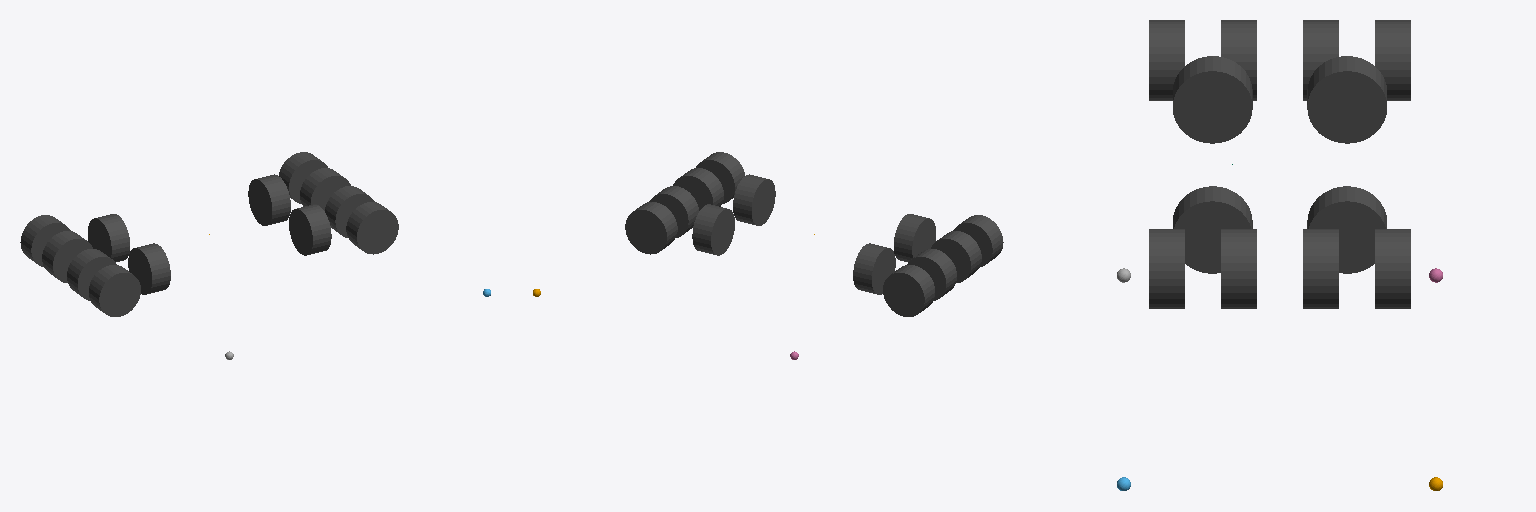
URDF robot description (sysu219):
<?xml version="1.0"?>
<!-- Generated by scripts/tools/sync_sysu219.py from ROS SOURCE xacro. -->
<robot name="sysu219">
  <material name="black">
    <color rgba="0.0 0.0 0.0 1.0" />
  </material>
  <material name="blue">
    <color rgba="0.0 0.0 0.8 1.0" />
  </material>
  <material name="green">
    <color rgba="0.0 0.8 0.0 1.0" />
  </material>
  <material name="deep-grey">
    <color rgba="0.1 0.1 0.1 1.0" />
  </material>
  <material name="grey">
    <color rgba="0.2 0.2 0.2 1.0" />
  </material>
  <material name="light-grey">
    <color rgba="0.35 0.35 0.35 1.0" />
  </material>
  <material name="silver">
    <color rgba="0.9137254901960784 0.9137254901960784 0.8470588235294118 1.0" />
  </material>
  <material name="orange">
    <color rgba="1.0 0.4235294117647059 0.0392156862745098 1.0" />
  </material>
  <material name="brown">
    <color rgba="0.8705882352941177 0.8117647058823529 0.7647058823529411 1.0" />
  </material>
  <material name="red">
    <color rgba="0.8 0.0 0.0 1.0" />
  </material>
  <material name="white">
    <color rgba="1.0 1.0 1.0 1.0" />
  </material>
  <link name="base">
    <visual>
      <origin rpy="0 0 0" xyz="0 0 0" />
      <geometry>
        <box size="0.001 0.001 0.001" />
      </geometry>
    </visual>
  </link>
  <joint name="floating_base" type="fixed">
    <origin rpy="0 0 0" xyz="0 0 0" />
    <parent link="base" />
    <child link="trunk" />
  </joint>
  <link name="trunk">
    <visual>
      <origin rpy="3.141592653589793 0 0" xyz="0 0 0" />
      <geometry>
        <mesh filename="../meshes/trunk.dae" scale="0.001 0.001 0.001" />
      </geometry>
      <material name="light-grey" />
    </visual>
    <collision>
      <origin rpy="0 0 0" xyz="0 0 0" />
      <geometry>
        <box size="0.8575 0.32 0.23" />
      </geometry>
    </collision>
    <inertial>
      <origin rpy="0 0 0" xyz="-0.008263775204270183 0.00013850204932197672 -0.0038367281726919174" />
      <mass value="23.262327999999997" />
      <inertia ixx="0.15585326648775927" ixy="0.00017527213401027876" ixz="-0.0001648098028850851" iyy="0.3450421815507041" iyz="-9.347367638805436e-06" izz="0.3993994523641999" />
    </inertial>
  </link>
  <joint name="imu_joint" type="fixed">
    <parent link="trunk" />
    <child link="imu_link" />
    <origin rpy="0 0 0" xyz="-0.01592 -0.06659 -0.00617" />
  </joint>
  <link name="imu_link">
    <inertial>
      <mass value="0.001" />
      <origin rpy="0 0 0" xyz="0 0 0" />
      <inertia ixx="0.0001" ixy="0" ixz="0" iyy="0.0001" iyz="0" izz="0.0001" />
    </inertial>
    <visual>
      <origin rpy="0 0 0" xyz="0 0 0" />
      <geometry>
        <box size="0.001 0.001 0.001" />
      </geometry>
    </visual>
    <collision>
      <origin rpy="0 0 0" xyz="0 0 0" />
      <geometry>
        <box size=".001 .001 .001" />
      </geometry>
    </collision>
  </link>
  <joint name="FR_hip_joint" type="revolute">
    <origin rpy="0 0 0" xyz="0.34525 -0.094 0" />
    <parent link="trunk" />
    <child link="FR_hip" />
    <axis xyz="1 0 0" />
    <dynamics damping="9.833942875227822e-10" friction="1.0170625680080705" />
    <identified_dynamics Ja="0.0" />
    <limit effort="100.0" lower="-0.863" upper="0.863" velocity="30.1" />
  </joint>
  <joint name="FR_hip_rotor_joint" type="fixed">
    <origin rpy="0 0 0" xyz="0.21525 -0.094 0" />
    <parent link="trunk" />
    <child link="FR_hip_rotor" />
  </joint>
  <link name="FR_hip">
    <visual>
      <origin rpy="3.141592653589793 0 0" xyz="0 0 0" />
      <geometry>
        <mesh filename="../meshes/hip.dae" scale="0.001 0.001 0.001" />
      </geometry>
      <material name="deep-grey" />
    </visual>
    <collision>
      <origin rpy="1.5707963267948966 0 0" xyz="0 -0.042 0" />
      <geometry>
        <cylinder length="0.2075" radius="0.0645" />
      </geometry>
    </collision>
    <inertial>
      <origin rpy="0 0 0" xyz="-0.00696261448447296 0.012046148468547043 -0.026980860633847754" />
      <mass value="1.7924602521424395" />
      <inertia ixx="0.0009483818482052668" ixy="-2.4797388489340645e-05" ixz="0.0002973124753954913" iyy="0.002206880063634297" iyz="-0.0004026831142534481" izz="0.0022395227304014016" />
    </inertial>
  </link>
  <link name="FR_hip_rotor">
    <visual>
      <origin rpy="0 1.5707963267948966 0" xyz="0 0 0" />
      <geometry>
        <cylinder length="0.050" radius="0.056" />
      </geometry>
      <material name="light-grey" />
    </visual>
  </link>
  <joint name="FR_thigh_joint" type="revolute">
    <origin rpy="0 0 0" xyz="0 -0.1243 0" />
    <parent link="FR_hip" />
    <child link="FR_thigh" />
    <axis xyz="0 1 0" />
    <dynamics damping="0.09591841174893605" friction="1.2980958388469037" />
    <identified_dynamics Ja="0.0" />
    <limit effort="100.0" lower="-2.1" upper="4.501" velocity="30.1" />
  </joint>
  <joint name="FR_thigh_rotor_joint" type="fixed">
    <origin rpy="0 0 0" xyz="0.0 0.03675 0" />
    <parent link="FR_hip" />
    <child link="FR_thigh_rotor" />
  </joint>
  <link name="FR_thigh">
    <visual>
      <origin rpy="0 0 0" xyz="0 0 0" />
      <geometry>
        <mesh filename="../meshes/thigh_mirror.dae" scale="0.001 0.001 0.001" />
      </geometry>
      <material name="grey" />
    </visual>
    <collision>
      <origin rpy="0 1.5707963267948966 0" xyz="0 0 -0.14175" />
      <geometry>
        <box size="0.2835 0.0245 0.034" />
      </geometry>
    </collision>
    <inertial>
      <origin rpy="0 0 0" xyz="-0.005325015173474939 0.005586610327414134 0.007249839087963947" />
      <mass value="1.7879790627273628" />
      <inertia ixx="0.04073612670322317" ixy="-0.0034975829479520016" ixz="0.007126920925560381" iyy="0.036818243851499684" iyz="0.00045967932687648297" izz="0.010400779450165947" />
    </inertial>
  </link>
  <link name="FR_thigh_rotor">
    <visual>
      <origin rpy="1.5707963267948966 0 0" xyz="0 0 0" />
      <geometry>
        <cylinder length="0.05" radius="0.056" />
      </geometry>
      <material name="light-grey" />
    </visual>
  </link>
  <joint name="FR_calf_joint" type="revolute">
    <origin rpy="0 0 0" xyz="0 0 -0.2835" />
    <parent link="FR_thigh" />
    <child link="FR_calf" />
    <axis xyz="0 1 0" />
    <dynamics damping="1.6499038712067307e-09" friction="1.0794450668988391" />
    <identified_dynamics Ja="0.055704868111569605" />
    <limit effort="100.0" lower="-2.818" upper="-0.888" velocity="20.06" />
  </joint>
  <joint name="FR_calf_rotor_joint" type="fixed">
    <origin rpy="0 0 0" xyz="0.0 0.06055 0" />
    <parent link="FR_thigh" />
    <child link="FR_calf_rotor" />
  </joint>
  <link name="FR_calf">
    <visual>
      <origin rpy="0 0 0" xyz="0 0 0" />
      <geometry>
        <mesh filename="../meshes/calf.dae" scale="0.001 0.001 0.001" />
      </geometry>
      <material name="light-grey" />
    </visual>
    <collision>
      <origin rpy="0 1.5707963267948966 0" xyz="0 0 -0.14175" />
      <geometry>
        <box size="0.2835 0.016 0.016" />
      </geometry>
    </collision>
    <inertial>
      <origin rpy="0 0 0" xyz="0.004891577704718271 -0.003991314072789767 -0.06893179294071515" />
      <mass value="0.9242110826201402" />
      <inertia ixx="0.018042043944794667" ixy="-0.0004037739589797209" ixz="0.0009094584478298722" iyy="0.01614807511713299" iyz="0.0057717411137930144" izz="0.003446060257266225" />
    </inertial>
  </link>
  <link name="FR_calf_rotor">
    <visual>
      <origin rpy="1.5707963267948966 0 0" xyz="0 0 0" />
      <geometry>
        <cylinder length="0.05" radius="0.056" />
      </geometry>
      <material name="light-grey" />
    </visual>
  </link>
  <joint name="FR_foot_fixed" type="fixed" dont_collapse="true">
    <origin rpy="0 0 0" xyz="0 0 -0.2835" />
    <parent link="FR_calf" />
    <child link="FR_foot" />
  </joint>
  <link name="FR_foot">
    <visual>
      <origin rpy="0 0 0" xyz="0 0 0" />
      <geometry>
        <sphere radius="0.01" />
      </geometry>
    </visual>
    <collision>
      <origin rpy="0 0 0" xyz="0 0 0" />
      <geometry>
        <sphere radius="0.02" />
      </geometry>
    </collision>
  </link>
  <joint name="FL_hip_joint" type="revolute">
    <origin rpy="0 0 0" xyz="0.34525 0.094 0" />
    <parent link="trunk" />
    <child link="FL_hip" />
    <axis xyz="1 0 0" />
    <dynamics damping="9.833942875227822e-10" friction="1.0170625680080705" />
    <identified_dynamics Ja="0.0" />
    <limit effort="100.0" lower="-0.863" upper="0.863" velocity="30.1" />
  </joint>
  <joint name="FL_hip_rotor_joint" type="fixed">
    <origin rpy="0 0 0" xyz="0.21525 0.094 0" />
    <parent link="trunk" />
    <child link="FL_hip_rotor" />
  </joint>
  <link name="FL_hip">
    <visual>
      <origin rpy="0 0 0" xyz="0 0 0" />
      <geometry>
        <mesh filename="../meshes/hip.dae" scale="0.001 0.001 0.001" />
      </geometry>
      <material name="deep-grey" />
    </visual>
    <collision>
      <origin rpy="1.5707963267948966 0 0" xyz="0 0.042 0" />
      <geometry>
        <cylinder length="0.2075" radius="0.0645" />
      </geometry>
    </collision>
    <inertial>
      <origin rpy="0 0 0" xyz="-0.00696261448447296 -0.012046148468547043 -0.026980860633847754" />
      <mass value="1.7924602521424395" />
      <inertia ixx="0.0009483818482052668" ixy="2.4797388489340645e-05" ixz="0.0002973124753954913" iyy="0.002206880063634297" iyz="0.0004026831142534481" izz="0.0022395227304014016" />
    </inertial>
  </link>
  <link name="FL_hip_rotor">
    <visual>
      <origin rpy="0 1.5707963267948966 0" xyz="0 0 0" />
      <geometry>
        <cylinder length="0.050" radius="0.056" />
      </geometry>
      <material name="light-grey" />
    </visual>
  </link>
  <joint name="FL_thigh_joint" type="revolute">
    <origin rpy="0 0 0" xyz="0 0.1243 0" />
    <parent link="FL_hip" />
    <child link="FL_thigh" />
    <axis xyz="0 1 0" />
    <dynamics damping="0.09591841174893605" friction="1.2980958388469037" />
    <identified_dynamics Ja="0.0" />
    <limit effort="100.0" lower="-2.1" upper="4.501" velocity="30.1" />
  </joint>
  <joint name="FL_thigh_rotor_joint" type="fixed">
    <origin rpy="0 0 0" xyz="0.0 -0.03675 0" />
    <parent link="FL_hip" />
    <child link="FL_thigh_rotor" />
  </joint>
  <link name="FL_thigh">
    <visual>
      <origin rpy="0 0 0" xyz="0 0 0" />
      <geometry>
        <mesh filename="../meshes/thigh.dae" scale="0.001 0.001 0.001" />
      </geometry>
      <material name="grey" />
    </visual>
    <collision>
      <origin rpy="0 1.5707963267948966 0" xyz="0 0 -0.14175" />
      <geometry>
        <box size="0.2835 0.0245 0.034" />
      </geometry>
    </collision>
    <inertial>
      <origin rpy="0 0 0" xyz="-0.005325015173474939 -0.005586610327414134 0.007249839087963947" />
      <mass value="1.7879790627273628" />
      <inertia ixx="0.04073612670322317" ixy="0.0034975829479520016" ixz="0.007126920925560381" iyy="0.036818243851499684" iyz="-0.00045967932687648297" izz="0.010400779450165947" />
    </inertial>
  </link>
  <link name="FL_thigh_rotor">
    <visual>
      <origin rpy="1.5707963267948966 0 0" xyz="0 0 0" />
      <geometry>
        <cylinder length="0.05" radius="0.056" />
      </geometry>
      <material name="light-grey" />
    </visual>
  </link>
  <joint name="FL_calf_joint" type="revolute">
    <origin rpy="0 0 0" xyz="0 0 -0.2835" />
    <parent link="FL_thigh" />
    <child link="FL_calf" />
    <axis xyz="0 1 0" />
    <dynamics damping="1.6499038712067307e-09" friction="1.0794450668988391" />
    <identified_dynamics Ja="0.055704868111569605" />
    <limit effort="100.0" lower="-2.818" upper="-0.888" velocity="20.06" />
  </joint>
  <joint name="FL_calf_rotor_joint" type="fixed">
    <origin rpy="0 0 0" xyz="0.0 -0.06055 0" />
    <parent link="FL_thigh" />
    <child link="FL_calf_rotor" />
  </joint>
  <link name="FL_calf">
    <visual>
      <origin rpy="0 0 0" xyz="0 0 0" />
      <geometry>
        <mesh filename="../meshes/calf.dae" scale="0.001 0.001 0.001" />
      </geometry>
      <material name="light-grey" />
    </visual>
    <collision>
      <origin rpy="0 1.5707963267948966 0" xyz="0 0 -0.14175" />
      <geometry>
        <box size="0.2835 0.016 0.016" />
      </geometry>
    </collision>
    <inertial>
      <origin rpy="0 0 0" xyz="0.004891577704718271 0.003991314072789767 -0.06893179294071515" />
      <mass value="0.9242110826201402" />
      <inertia ixx="0.018042043944794667" ixy="0.0004037739589797209" ixz="0.0009094584478298722" iyy="0.01614807511713299" iyz="-0.0057717411137930144" izz="0.003446060257266225" />
    </inertial>
  </link>
  <link name="FL_calf_rotor">
    <visual>
      <origin rpy="1.5707963267948966 0 0" xyz="0 0 0" />
      <geometry>
        <cylinder length="0.05" radius="0.056" />
      </geometry>
      <material name="light-grey" />
    </visual>
  </link>
  <joint name="FL_foot_fixed" type="fixed" dont_collapse="true">
    <origin rpy="0 0 0" xyz="0 0 -0.2835" />
    <parent link="FL_calf" />
    <child link="FL_foot" />
  </joint>
  <link name="FL_foot">
    <visual>
      <origin rpy="0 0 0" xyz="0 0 0" />
      <geometry>
        <sphere radius="0.01" />
      </geometry>
    </visual>
    <collision>
      <origin rpy="0 0 0" xyz="0 0 0" />
      <geometry>
        <sphere radius="0.02" />
      </geometry>
    </collision>
  </link>
  <joint name="RR_hip_joint" type="revolute">
    <origin rpy="0 0 0" xyz="-0.34525 -0.094 0" />
    <parent link="trunk" />
    <child link="RR_hip" />
    <axis xyz="1 0 0" />
    <dynamics damping="9.833942875227822e-10" friction="1.0170625680080705" />
    <identified_dynamics Ja="0.0" />
    <limit effort="100.0" lower="-0.863" upper="0.863" velocity="30.1" />
  </joint>
  <joint name="RR_hip_rotor_joint" type="fixed">
    <origin rpy="0 0 0" xyz="-0.21525 -0.094 0" />
    <parent link="trunk" />
    <child link="RR_hip_rotor" />
  </joint>
  <link name="RR_hip">
    <visual>
      <origin rpy="3.141592653589793 3.141592653589793 0" xyz="0 0 0" />
      <geometry>
        <mesh filename="../meshes/hip.dae" scale="0.001 0.001 0.001" />
      </geometry>
      <material name="deep-grey" />
    </visual>
    <collision>
      <origin rpy="1.5707963267948966 0 0" xyz="0 -0.042 0" />
      <geometry>
        <cylinder length="0.2075" radius="0.0645" />
      </geometry>
    </collision>
    <inertial>
      <origin rpy="0 0 0" xyz="0.00696261448447296 0.012046148468547043 -0.026980860633847754" />
      <mass value="1.7924602521424395" />
      <inertia ixx="0.0009483818482052668" ixy="2.4797388489340645e-05" ixz="-0.0002973124753954913" iyy="0.002206880063634297" iyz="-0.0004026831142534481" izz="0.0022395227304014016" />
    </inertial>
  </link>
  <link name="RR_hip_rotor">
    <visual>
      <origin rpy="0 1.5707963267948966 0" xyz="0 0 0" />
      <geometry>
        <cylinder length="0.050" radius="0.056" />
      </geometry>
      <material name="light-grey" />
    </visual>
  </link>
  <joint name="RR_thigh_joint" type="revolute">
    <origin rpy="0 0 0" xyz="0 -0.1243 0" />
    <parent link="RR_hip" />
    <child link="RR_thigh" />
    <axis xyz="0 1 0" />
    <dynamics damping="0.09591841174893605" friction="1.2980958388469037" />
    <identified_dynamics Ja="0.0" />
    <limit effort="100.0" lower="-2.1" upper="4.501" velocity="30.1" />
  </joint>
  <joint name="RR_thigh_rotor_joint" type="fixed">
    <origin rpy="0 0 0" xyz="0.0 0.03675 0" />
    <parent link="RR_hip" />
    <child link="RR_thigh_rotor" />
  </joint>
  <link name="RR_thigh">
    <visual>
      <origin rpy="0 0 0" xyz="0 0 0" />
      <geometry>
        <mesh filename="../meshes/thigh_mirror.dae" scale="0.001 0.001 0.001" />
      </geometry>
      <material name="grey" />
    </visual>
    <collision>
      <origin rpy="0 1.5707963267948966 0" xyz="0 0 -0.14175" />
      <geometry>
        <box size="0.2835 0.0245 0.034" />
      </geometry>
    </collision>
    <inertial>
      <origin rpy="0 0 0" xyz="-0.005325015173474939 0.005586610327414134 0.007249839087963947" />
      <mass value="1.7879790627273628" />
      <inertia ixx="0.04073612670322317" ixy="-0.0034975829479520016" ixz="0.007126920925560381" iyy="0.036818243851499684" iyz="0.00045967932687648297" izz="0.010400779450165947" />
    </inertial>
  </link>
  <link name="RR_thigh_rotor">
    <visual>
      <origin rpy="1.5707963267948966 0 0" xyz="0 0 0" />
      <geometry>
        <cylinder length="0.05" radius="0.056" />
      </geometry>
      <material name="light-grey" />
    </visual>
  </link>
  <joint name="RR_calf_joint" type="revolute">
    <origin rpy="0 0 0" xyz="0 0 -0.2835" />
    <parent link="RR_thigh" />
    <child link="RR_calf" />
    <axis xyz="0 1 0" />
    <dynamics damping="1.6499038712067307e-09" friction="1.0794450668988391" />
    <identified_dynamics Ja="0.055704868111569605" />
    <limit effort="100.0" lower="-2.818" upper="-0.888" velocity="20.06" />
  </joint>
  <joint name="RR_calf_rotor_joint" type="fixed">
    <origin rpy="0 0 0" xyz="0.0 0.06055 0" />
    <parent link="RR_thigh" />
    <child link="RR_calf_rotor" />
  </joint>
  <link name="RR_calf">
    <visual>
      <origin rpy="0 0 0" xyz="0 0 0" />
      <geometry>
        <mesh filename="../meshes/calf.dae" scale="0.001 0.001 0.001" />
      </geometry>
      <material name="light-grey" />
    </visual>
    <collision>
      <origin rpy="0 1.5707963267948966 0" xyz="0 0 -0.14175" />
      <geometry>
        <box size="0.2835 0.016 0.016" />
      </geometry>
    </collision>
    <inertial>
      <origin rpy="0 0 0" xyz="0.004891577704718271 -0.003991314072789767 -0.06893179294071515" />
      <mass value="0.9242110826201402" />
      <inertia ixx="0.018042043944794667" ixy="-0.0004037739589797209" ixz="0.0009094584478298722" iyy="0.01614807511713299" iyz="0.0057717411137930144" izz="0.003446060257266225" />
    </inertial>
  </link>
  <link name="RR_calf_rotor">
    <visual>
      <origin rpy="1.5707963267948966 0 0" xyz="0 0 0" />
      <geometry>
        <cylinder length="0.05" radius="0.056" />
      </geometry>
      <material name="light-grey" />
    </visual>
  </link>
  <joint name="RR_foot_fixed" type="fixed" dont_collapse="true">
    <origin rpy="0 0 0" xyz="0 0 -0.2835" />
    <parent link="RR_calf" />
    <child link="RR_foot" />
  </joint>
  <link name="RR_foot">
    <visual>
      <origin rpy="0 0 0" xyz="0 0 0" />
      <geometry>
        <sphere radius="0.01" />
      </geometry>
    </visual>
    <collision>
      <origin rpy="0 0 0" xyz="0 0 0" />
      <geometry>
        <sphere radius="0.02" />
      </geometry>
    </collision>
  </link>
  <joint name="RL_hip_joint" type="revolute">
    <origin rpy="0 0 0" xyz="-0.34525 0.094 0" />
    <parent link="trunk" />
    <child link="RL_hip" />
    <axis xyz="1 0 0" />
    <dynamics damping="9.833942875227822e-10" friction="1.0170625680080705" />
    <identified_dynamics Ja="0.0" />
    <limit effort="100.0" lower="-0.863" upper="0.863" velocity="30.1" />
  </joint>
  <joint name="RL_hip_rotor_joint" type="fixed">
    <origin rpy="0 0 0" xyz="-0.21525 0.094 0" />
    <parent link="trunk" />
    <child link="RL_hip_rotor" />
  </joint>
  <link name="RL_hip">
    <visual>
      <origin rpy="0 3.141592653589793 0" xyz="0 0 0" />
      <geometry>
        <mesh filename="../meshes/hip.dae" scale="0.001 0.001 0.001" />
      </geometry>
      <material name="deep-grey" />
    </visual>
    <collision>
      <origin rpy="1.5707963267948966 0 0" xyz="0 0.042 0" />
      <geometry>
        <cylinder length="0.2075" radius="0.0645" />
      </geometry>
    </collision>
    <inertial>
      <origin rpy="0 0 0" xyz="0.00696261448447296 -0.012046148468547043 -0.026980860633847754" />
      <mass value="1.7924602521424395" />
      <inertia ixx="0.0009483818482052668" ixy="-2.4797388489340645e-05" ixz="-0.0002973124753954913" iyy="0.002206880063634297" iyz="0.0004026831142534481" izz="0.0022395227304014016" />
    </inertial>
  </link>
  <link name="RL_hip_rotor">
    <visual>
      <origin rpy="0 1.5707963267948966 0" xyz="0 0 0" />
      <geometry>
        <cylinder length="0.050" radius="0.056" />
      </geometry>
      <material name="light-grey" />
    </visual>
  </link>
  <joint name="RL_thigh_joint" type="revolute">
    <origin rpy="0 0 0" xyz="0 0.1243 0" />
    <parent link="RL_hip" />
    <child link="RL_thigh" />
    <axis xyz="0 1 0" />
    <dynamics damping="0.09591841174893605" friction="1.2980958388469037" />
    <identified_dynamics Ja="0.0" />
    <limit effort="100.0" lower="-2.1" upper="4.501" velocity="30.1" />
  </joint>
  <joint name="RL_thigh_rotor_joint" type="fixed">
    <origin rpy="0 0 0" xyz="0.0 -0.03675 0" />
    <parent link="RL_hip" />
    <child link="RL_thigh_rotor" />
  </joint>
  <link name="RL_thigh">
    <visual>
      <origin rpy="0 0 0" xyz="0 0 0" />
      <geometry>
        <mesh filename="../meshes/thigh.dae" scale="0.001 0.001 0.001" />
      </geometry>
      <material name="grey" />
    </visual>
    <collision>
      <origin rpy="0 1.5707963267948966 0" xyz="0 0 -0.14175" />
      <geometry>
        <box size="0.2835 0.0245 0.034" />
      </geometry>
    </collision>
    <inertial>
      <origin rpy="0 0 0" xyz="-0.005325015173474939 -0.005586610327414134 0.007249839087963947" />
      <mass value="1.7879790627273628" />
      <inertia ixx="0.04073612670322317" ixy="0.0034975829479520016" ixz="0.007126920925560381" iyy="0.036818243851499684" iyz="-0.00045967932687648297" izz="0.010400779450165947" />
    </inertial>
  </link>
  <link name="RL_thigh_rotor">
    <visual>
      <origin rpy="1.5707963267948966 0 0" xyz="0 0 0" />
      <geometry>
        <cylinder length="0.05" radius="0.056" />
      </geometry>
      <material name="light-grey" />
    </visual>
  </link>
  <joint name="RL_calf_joint" type="revolute">
    <origin rpy="0 0 0" xyz="0 0 -0.2835" />
    <parent link="RL_thigh" />
    <child link="RL_calf" />
    <axis xyz="0 1 0" />
    <dynamics damping="1.6499038712067307e-09" friction="1.0794450668988391" />
    <identified_dynamics Ja="0.055704868111569605" />
    <limit effort="100.0" lower="-2.818" upper="-0.888" velocity="20.06" />
  </joint>
  <joint name="RL_calf_rotor_joint" type="fixed">
    <origin rpy="0 0 0" xyz="0.0 -0.06055 0" />
    <parent link="RL_thigh" />
    <child link="RL_calf_rotor" />
  </joint>
  <link name="RL_calf">
    <visual>
      <origin rpy="0 0 0" xyz="0 0 0" />
      <geometry>
        <mesh filename="../meshes/calf.dae" scale="0.001 0.001 0.001" />
      </geometry>
      <material name="light-grey" />
    </visual>
    <collision>
      <origin rpy="0 1.5707963267948966 0" xyz="0 0 -0.14175" />
      <geometry>
        <box size="0.2835 0.016 0.016" />
      </geometry>
    </collision>
    <inertial>
      <origin rpy="0 0 0" xyz="0.004891577704718271 0.003991314072789767 -0.06893179294071515" />
      <mass value="0.9242110826201402" />
      <inertia ixx="0.018042043944794667" ixy="0.0004037739589797209" ixz="0.0009094584478298722" iyy="0.01614807511713299" iyz="-0.0057717411137930144" izz="0.003446060257266225" />
    </inertial>
  </link>
  <link name="RL_calf_rotor">
    <visual>
      <origin rpy="1.5707963267948966 0 0" xyz="0 0 0" />
      <geometry>
        <cylinder length="0.05" radius="0.056" />
      </geometry>
      <material name="light-grey" />
    </visual>
  </link>
  <joint name="RL_foot_fixed" type="fixed" dont_collapse="true">
    <origin rpy="0 0 0" xyz="0 0 -0.2835" />
    <parent link="RL_calf" />
    <child link="RL_foot" />
  </joint>
  <link name="RL_foot">
    <visual>
      <origin rpy="0 0 0" xyz="0 0 0" />
      <geometry>
        <sphere radius="0.01" />
      </geometry>
    </visual>
    <collision>
      <origin rpy="0 0 0" xyz="0 0 0" />
      <geometry>
        <sphere radius="0.02" />
      </geometry>
    </collision>
  </link>
</robot>

--- Render facts (derived) ---
3 views of the same robot in one strip: view 1: azimuth 30°, elevation 25°; view 2: azimuth 150°, elevation 25°; view 3: azimuth 270°, elevation 25° (orthographic).
Robot: sysu219 — 31 links, 30 joints (12 revolute, 18 fixed); root link base; default pose: joints at zero except 4 at the middle of their limits (FR_calf_joint = -1.85, FL_calf_joint = -1.85, RR_calf_joint = -1.85, RL_calf_joint = -1.85).
Visible links, largest first — view 1: FR_calf_rotor, RR_calf_rotor, FR_hip_rotor, FL_hip_rotor, RR_hip_rotor, RL_hip_rotor, RL_thigh_rotor, RR_thigh_rotor, RL_calf_rotor, FL_thigh_rotor, FR_thigh_rotor, FL_calf_rotor; view 2: FL_calf_rotor, RL_calf_rotor, FR_hip_rotor, FL_hip_rotor, RL_hip_rotor, RR_hip_rotor, RR_thigh_rotor, RL_thigh_rotor, RR_calf_rotor, FR_thigh_rotor, FL_thigh_rotor, FR_calf_rotor; view 3: RR_hip_rotor, RL_hip_rotor, FR_hip_rotor, FL_hip_rotor, FR_thigh_rotor, FR_calf_rotor, FL_thigh_rotor, FL_calf_rotor, RR_calf_rotor, RL_calf_rotor, RR_thigh_rotor, RL_thigh_rotor.
Link boxes in pixels (x1,y1,x2,y2): FR_calf_rotor: [346, 202, 398, 254]; RR_calf_rotor: [89, 265, 140, 316]; FR_hip_rotor: [289, 204, 331, 255]; FL_hip_rotor: [248, 174, 290, 225]; RR_hip_rotor: [128, 243, 170, 294]; RL_hip_rotor: [88, 214, 129, 261]; RL_thigh_rotor: [42, 231, 92, 282]; RR_thigh_rotor: [67, 249, 116, 300]; RL_calf_rotor: [20, 215, 70, 266]; FL_thigh_rotor: [300, 168, 350, 210]; FR_thigh_rotor: [325, 186, 374, 237]; FL_calf_rotor: [279, 152, 327, 203]; FL_calf_rotor: [625, 202, 677, 254]; RL_calf_rotor: [883, 265, 934, 316]; FR_hip_rotor: [733, 174, 775, 225]; FL_hip_rotor: [692, 204, 734, 255]; RL_hip_rotor: [853, 243, 895, 294]; RR_hip_rotor: [894, 214, 935, 261]; RR_thigh_rotor: [931, 231, 981, 282]; RL_thigh_rotor: [907, 249, 956, 300]; RR_calf_rotor: [953, 215, 1003, 266]; FR_thigh_rotor: [673, 168, 723, 210]; FL_thigh_rotor: [649, 186, 698, 237]; FR_calf_rotor: [696, 152, 744, 203]; RR_hip_rotor: [1173, 56, 1252, 143]; RL_hip_rotor: [1307, 56, 1386, 143]; FR_hip_rotor: [1173, 186, 1252, 273]; FL_hip_rotor: [1307, 186, 1386, 273]; FR_thigh_rotor: [1221, 229, 1256, 308]; FR_calf_rotor: [1149, 229, 1184, 308]; FL_thigh_rotor: [1303, 229, 1338, 308]; FL_calf_rotor: [1375, 229, 1410, 308]; RR_calf_rotor: [1149, 20, 1184, 100]; RL_calf_rotor: [1375, 20, 1410, 100]; RR_thigh_rotor: [1221, 20, 1256, 100]; RL_thigh_rotor: [1303, 20, 1338, 100].
Bounding box of the posed robot: 1.03 × 0.4566 × 0.2705 m (x, y, z).
0 mesh visuals loaded from 5 distinct referenced files (none loaded); not drawn: 13 (reference not matched to a file when rendering).
